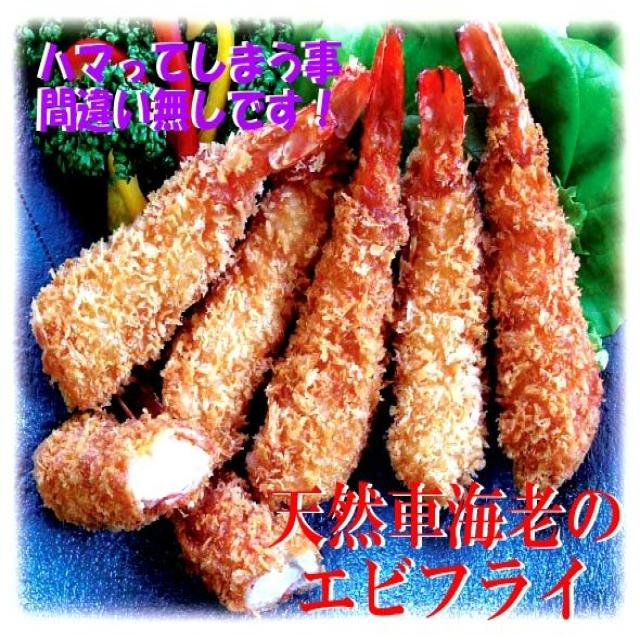炸货点心: (37, 41, 606, 512)
熟制海鲜: (37, 41, 606, 512)
